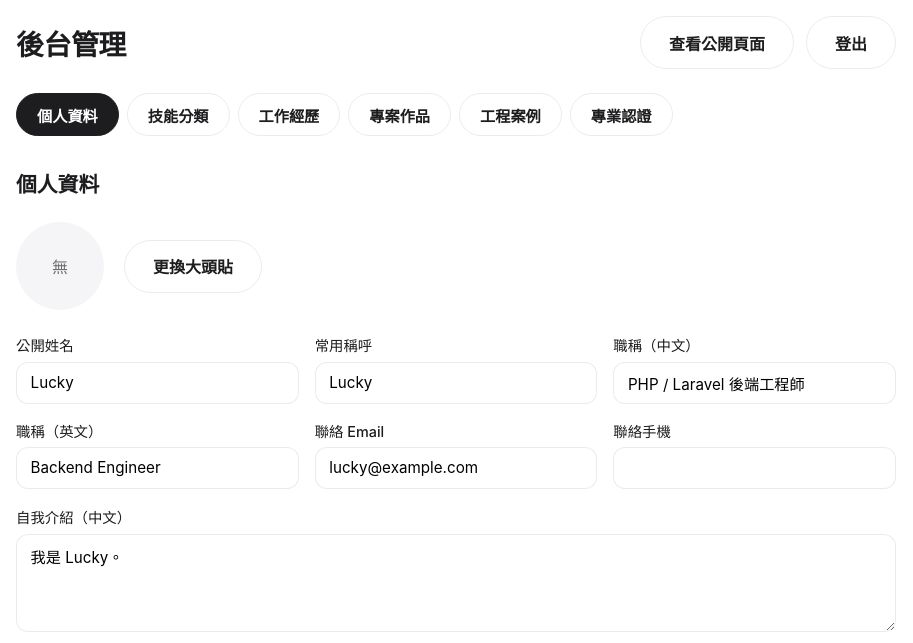
AdminDashboardView › pre-fills the profile form and switches tabs
Expected: the field labelled "公開姓名" holds "Lucky", [16, 362, 299, 404]
Click the button with class "admin__tab" showing "技能分類" at [178, 115], box [127, 93, 230, 136]
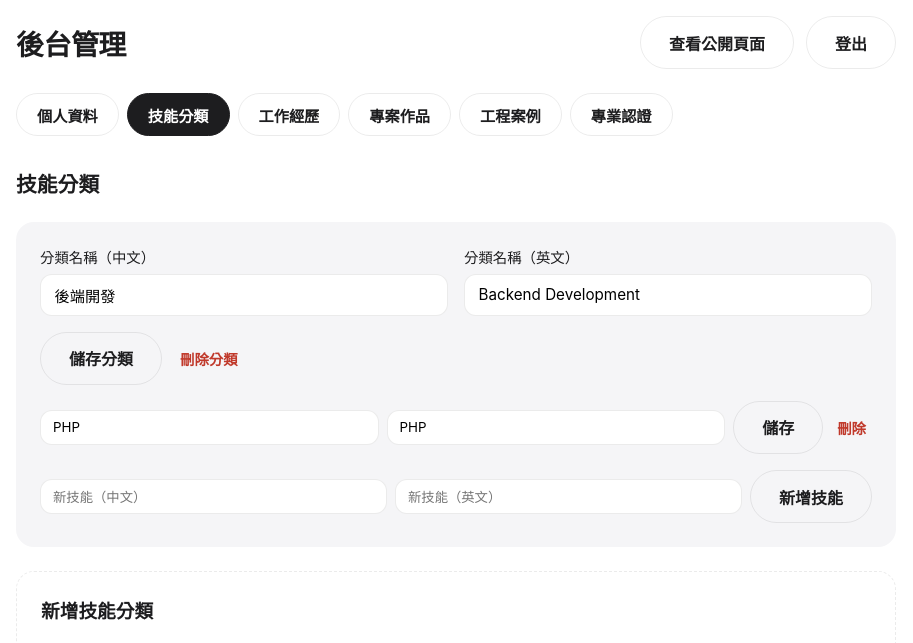
Now the 1st field labelled "分類名稱（中文）" holds "後端開發", box [40, 274, 448, 316]
